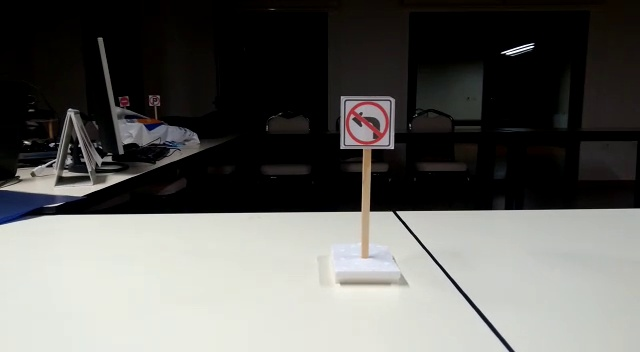sola_donulmez: (344, 97, 391, 150)
